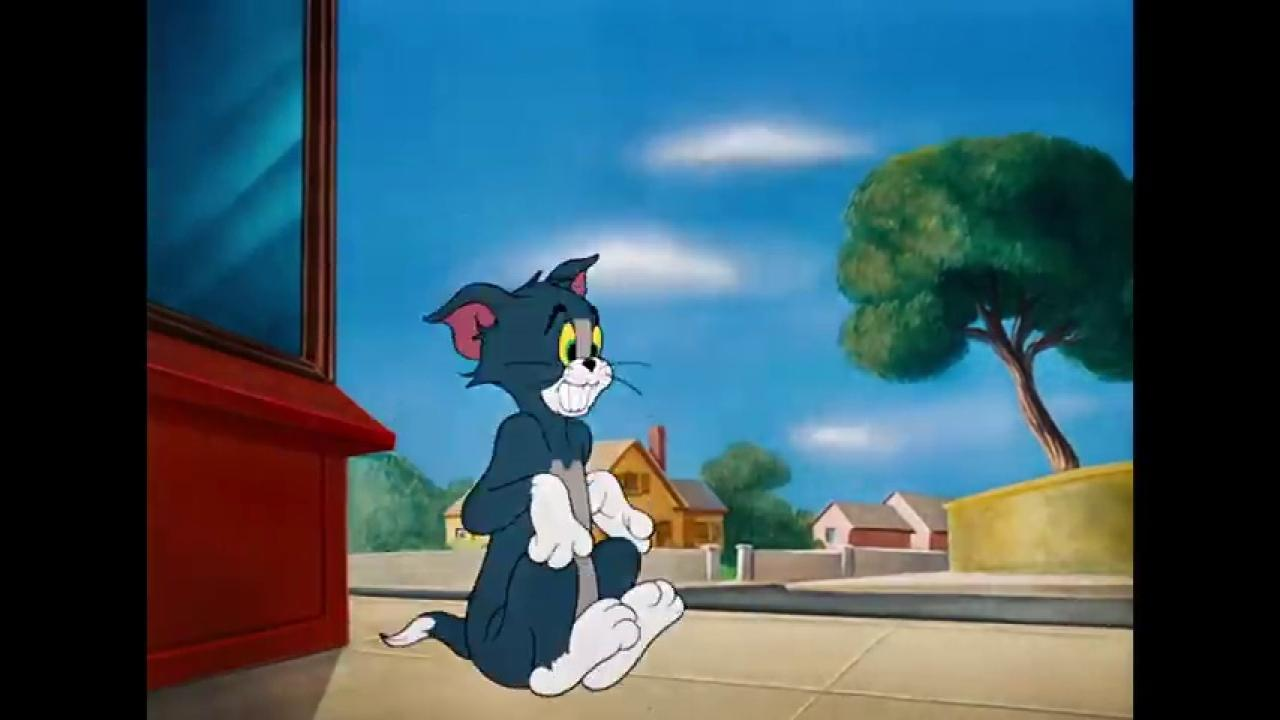Tom: (378, 252, 686, 698)
